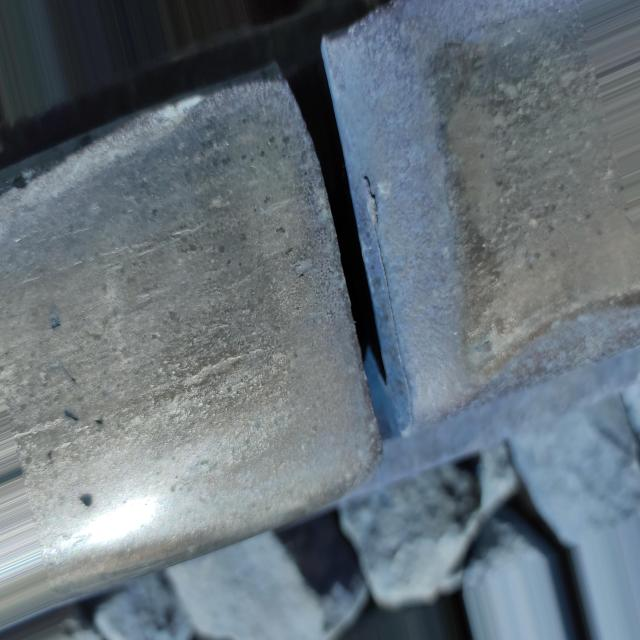crack: (252, 7, 434, 491)
